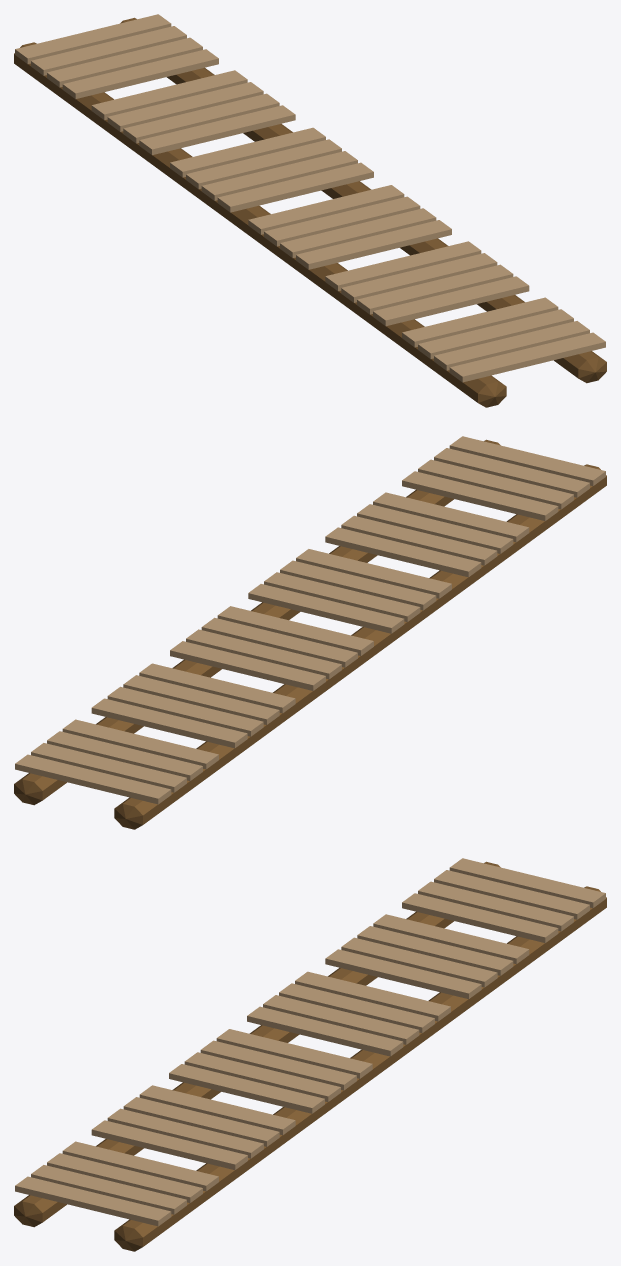
Rendered from bridge.fbx.
3 renders of one model, top to bottom at view 1: azimuth 30°, elevation 25°; view 2: azimuth 150°, elevation 25°; view 3: azimuth 330°, elevation 25°, orthographic.
Parts seen in each view (by area): view 1: object4_5; view 2: object4_5; view 3: object4_5.
Boxes of the visible parts, <box> form: object4_5: <box>14,14,606,407</box>; object4_5: <box>14,436,606,829</box>; object4_5: <box>14,858,606,1251</box>.
Bounding box in the file's own units: 130 × 25 × 738.
1 material, 1 textured.
